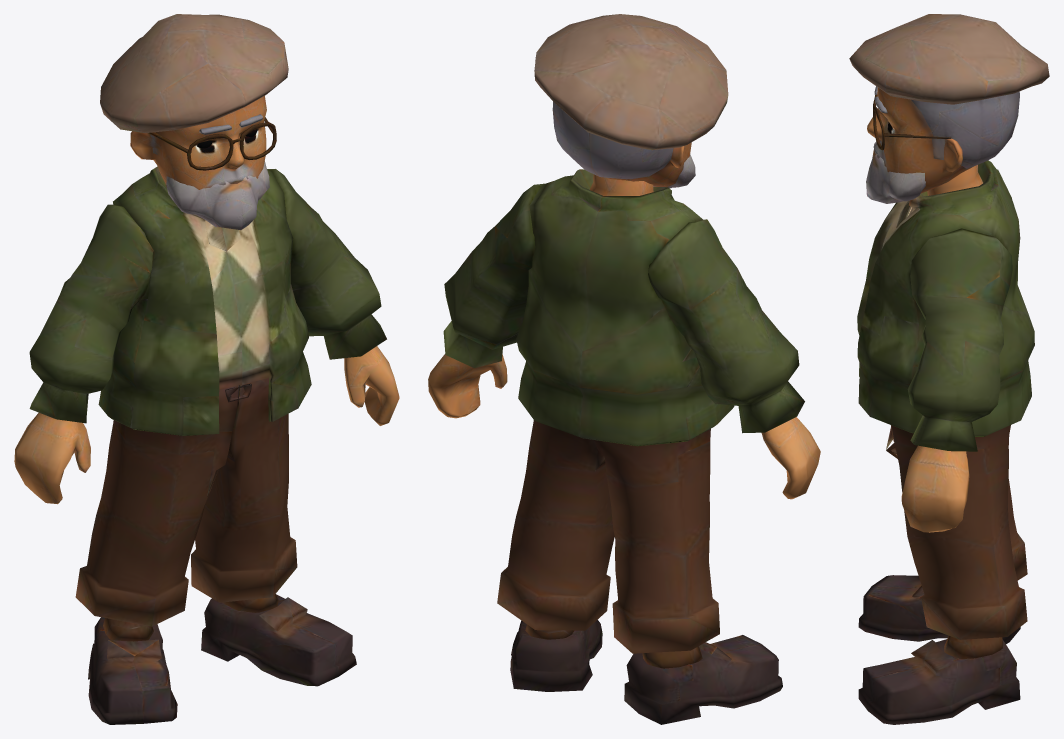
Rendered from Wise_Old_Gentleman.glb.
The picture shows the model from 3 angles, left to right: view 1: azimuth 30°, elevation 25°; view 2: azimuth 150°, elevation 25°; view 3: azimuth 270°, elevation 25°; orthographic projection.
Parts seen in each view (by area): view 1: geometry_0; view 2: geometry_0; view 3: geometry_0.
Boxes of the visible parts, left/top/right/bottom form: geometry_0: left=14, top=14, right=399, bottom=724; geometry_0: left=428, top=14, right=820, bottom=724; geometry_0: left=849, top=14, right=1049, bottom=724.
Bounding box in the file's own units: 0.6058 × 1 × 0.283.
Materials: 1 (1 with a texture image).
